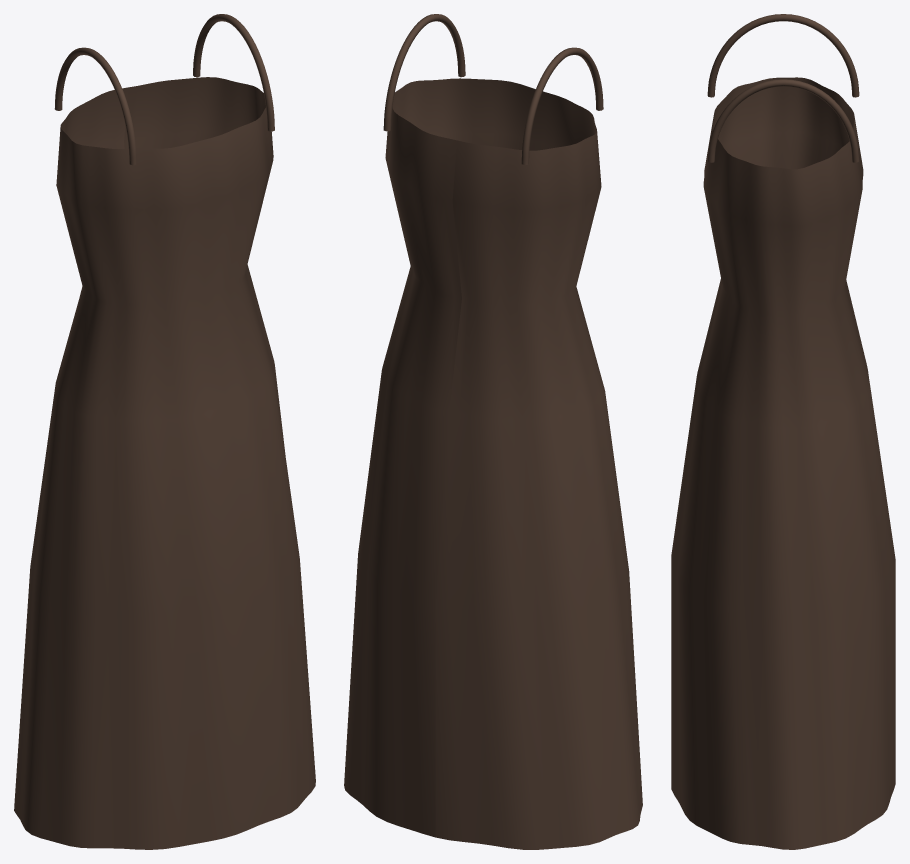
File: robe-sillage-femme.glb
3 views of the same model, side by side, from view 1: azimuth 30°, elevation 25°; view 2: azimuth 150°, elevation 25°; view 3: azimuth 270°, elevation 25° (orthographic). The views are drawn at different scales.
Parts seen in each view (by area): view 1: edit-17; view 2: edit-17; view 3: edit-17.
Boxes of the visible parts, x1=… form: edit-17: x1=14, y1=14, x2=315, y2=849; edit-17: x1=344, y1=14, x2=642, y2=849; edit-17: x1=671, y1=14, x2=895, y2=849.
Bounding box in the file's own units: 0.5047 × 1.32 × 0.3634.
